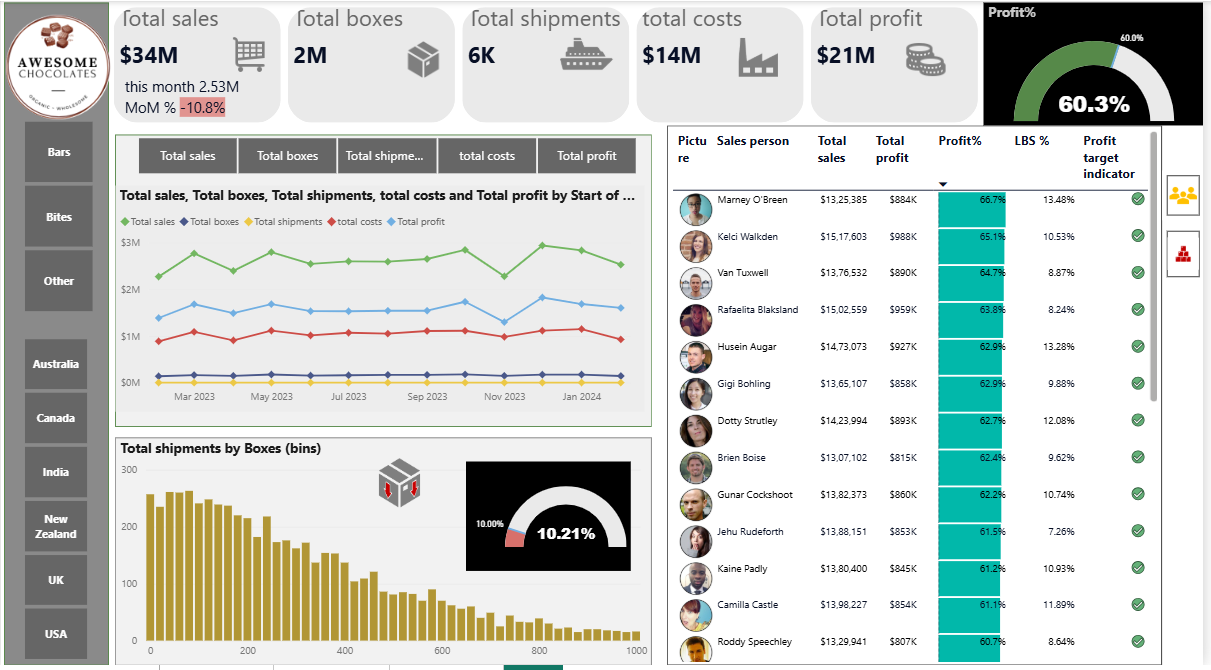

Layout of this report page (visuals, bound fields, positions):
{"tool":"powerbi","page":{"name":"Page 2","canvas":[1304,720],"ordinal":1},"visuals":[{"type":"shape","box":[3.3,1.6,113.9,718.9],"z":0},{"type":"shape","box":[123.6,144.8,582.3,317.2],"z":1000},{"type":"cardVisual","fields":{"Data":["_Measures.Total sales","_Measures.Total boxes","_Measures.Total shipments","_Measures.total costs","_Measures.Total profit"]},"box":[117.1,1.6,948.3,135],"z":2000},{"type":"image","title":"sales icon","box":[242.4,26,55.3,63.4],"z":3000},{"type":"image","title":"boxes icon","box":[416.4,34.2,83,58.6],"z":4000},{"type":"image","title":"shipment icon","box":[575.8,22.8,118.7,69.9],"z":5000},{"type":"image","title":"costs icon","box":[764.5,26,113.9,69.9],"z":6000},{"type":"image","title":"profit icon","box":[959.7,34.2,84.6,58.6],"z":7000},{"type":"gauge","fields":{"Y":["_Measures.Profit%"]},"box":[1065.4,1.6,239.1,133.4],"z":8000},{"type":"image","title":"AC icon","box":[0,1.6,123.6,139.9],"z":9000},{"type":"lineChart","fields":{"Y":["_Measures.Total sales","_Measures.Total boxes","_Measures.Total shipments","_Measures.total costs","_Measures.Total profit"],"Category":["calendar.Start of Month"]},"box":[123.6,200.1,574.2,245.6],"z":10000},{"type":"columnChart","fields":{"Category":["shipments.Boxes (bins)"],"Y":["_Measures.Total shipments"]},"box":[123.6,473.3,582.3,247.2],"z":11000},{"type":"gauge","fields":{"Y":["_Measures.LBS %"]},"box":[504.2,499.3,178.9,118.7],"z":12000},{"type":"image","title":"shipment chart icon","box":[375.7,484.7,112.2,74.8],"z":13000},{"type":"tableEx","title":"people details","fields":{"Values":["people.Picture","people.Sales person","_Measures.Total sales","_Measures.Total profit","_Measures.Profit%","_Measures.LBS %","_Measures.Profit target indicator"]},"box":[722.2,135,536.8,585.6],"z":14000},{"type":"image","title":"people icon","box":[1258.9,183.8,45.5,53.7],"z":16000},{"type":"image","title":"product icon","box":[1258.9,244,45.5,60.2],"z":17000},{"type":"slicer","fields":{"Values":["products.Category"]},"box":[0,123.6,123.6,219.6],"z":18000},{"type":"slicer","fields":{"Values":["locations.Geo"]},"box":[0,359.5,117.1,361.1],"z":19000},{"type":"slicer","fields":{"Values":["Parameter.Parameter"]},"box":[123.6,141.5,588.8,52],"z":20000}]}

Visuals, with their boxes in screenshot pixels (x1, y1, x2, y2), scaled from the page's 1304x720 canvas onto the 1211x670 screenshot:
shape: 3,1,109,669
shape: 115,135,656,430
cardVisual - _Measures.Total sales x _Measures.Total boxes: 109,1,989,127
"sales icon" image: 225,24,276,83
"boxes icon" image: 387,32,464,86
"shipment icon" image: 535,21,645,86
"costs icon" image: 710,24,816,89
"profit icon" image: 891,32,970,86
gauge - _Measures.Profit%: 989,1,1210,126
"AC icon" image: 0,1,115,132
lineChart - _Measures.Total sales x _Measures.Total boxes: 115,186,648,415
columnChart - shipments.Boxes (bins) x _Measures.Total shipments: 115,440,656,669
gauge - _Measures.LBS %: 468,465,634,575
"shipment chart icon" image: 349,451,453,521
"people details" tableEx: 671,126,1169,669
"people icon" image: 1169,171,1210,221
"product icon" image: 1169,227,1210,283
slicer - products.Category: 0,115,115,319
slicer - locations.Geo: 0,335,109,669
slicer - Parameter.Parameter: 115,132,662,180
